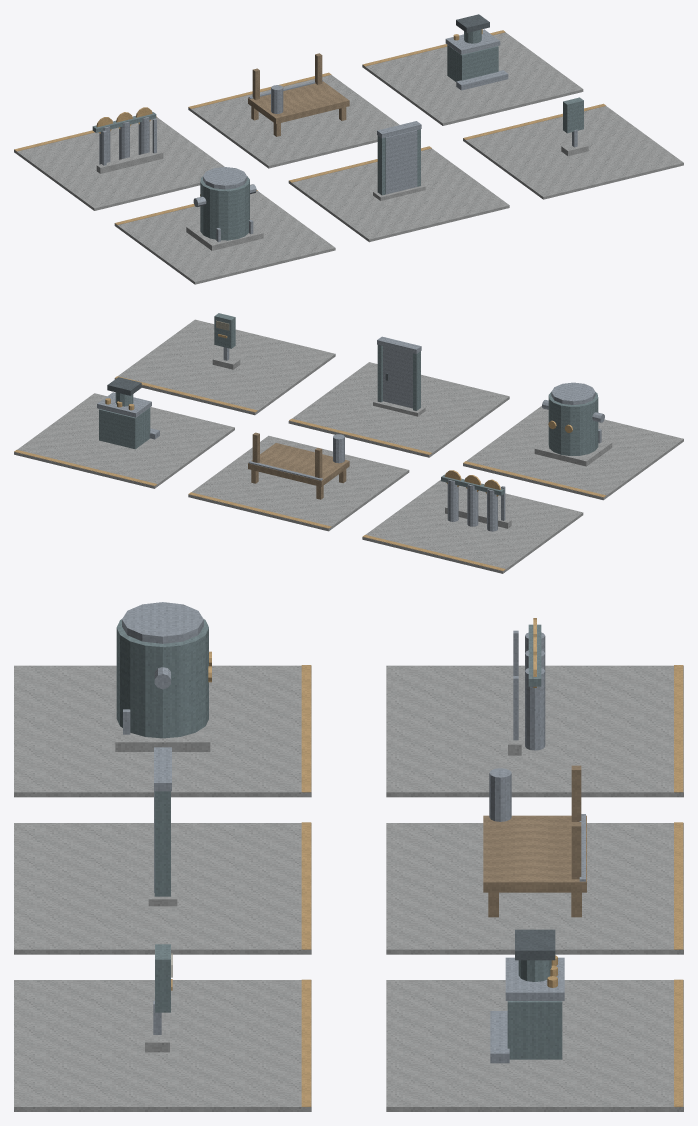
The model's file is level_blockout_kit_wld_15_p03.glb.
3 views of the same model, one above another, from view 1: azimuth 30°, elevation 25°; view 2: azimuth 150°, elevation 25°; view 3: azimuth 270°, elevation 25° (orthographic). The views are drawn at different scales.
Parts seen in each view (by area): view 1: level_blockout_kit_wld_15_p03; view 2: level_blockout_kit_wld_15_p03; view 3: level_blockout_kit_wld_15_p03.
Boxes of the visible parts, x1,y1,x2,y2 form: level_blockout_kit_wld_15_p03: (14, 14, 683, 284); level_blockout_kit_wld_15_p03: (14, 313, 683, 573); level_blockout_kit_wld_15_p03: (14, 602, 683, 1111).
Size of the model in its own units: 19.65 by 2.62 by 12.6.
Materials: 7 (7 with a texture image).
